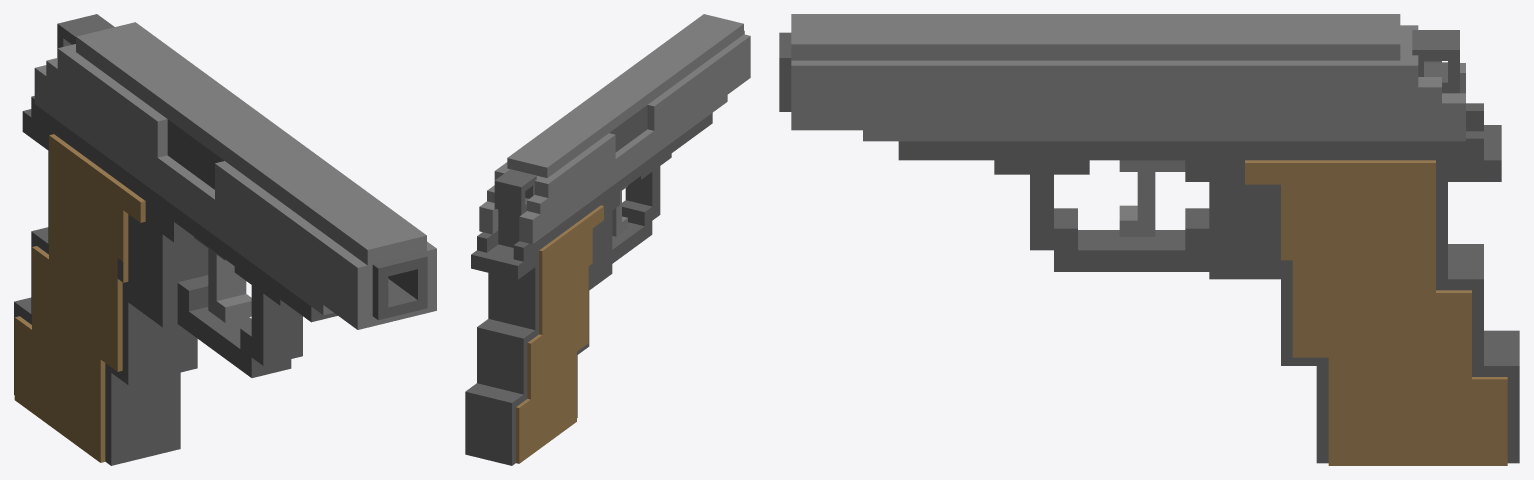
The model's file is small_pistol.fbx.
The picture shows the model from 3 angles, left to right: view 1: azimuth 30°, elevation 25°; view 2: azimuth 150°, elevation 25°; view 3: azimuth 270°, elevation 25°; orthographic projection. The views are drawn at different scales.
Parts seen in each view (by area): view 1: small_pistol_base, small_pistol_slider, small_pistol_trigger, small_pistol_hammer; view 2: small_pistol_base, small_pistol_slider, small_pistol_hammer, small_pistol_trigger; view 3: small_pistol_base, small_pistol_slider, small_pistol_trigger, small_pistol_hammer.
Part boxes in pixels (x1=…): small_pistol_base: x1=14, y1=96, x2=427, y2=465; small_pistol_slider: x1=34, y1=22, x2=436, y2=329; small_pistol_trigger: x1=194, y1=237, x2=251, y2=322; small_pistol_hammer: x1=57, y1=14, x2=114, y2=57; small_pistol_base: x1=465, y1=30, x2=744, y2=465; small_pistol_slider: x1=479, y1=14, x2=750, y2=244; small_pistol_hammer: x1=494, y1=169, x2=536, y2=247; small_pistol_trigger: x1=612, y1=185, x2=627, y2=236; small_pistol_base: x1=779, y1=32, x2=1519, y2=465; small_pistol_slider: x1=791, y1=14, x2=1465, y2=141; small_pistol_trigger: x1=1119, y1=160, x2=1185, y2=236; small_pistol_hammer: x1=1412, y1=30, x2=1459, y2=93.
Bounding box in the file's own units: 4.8 × 23.1 × 37.2.
